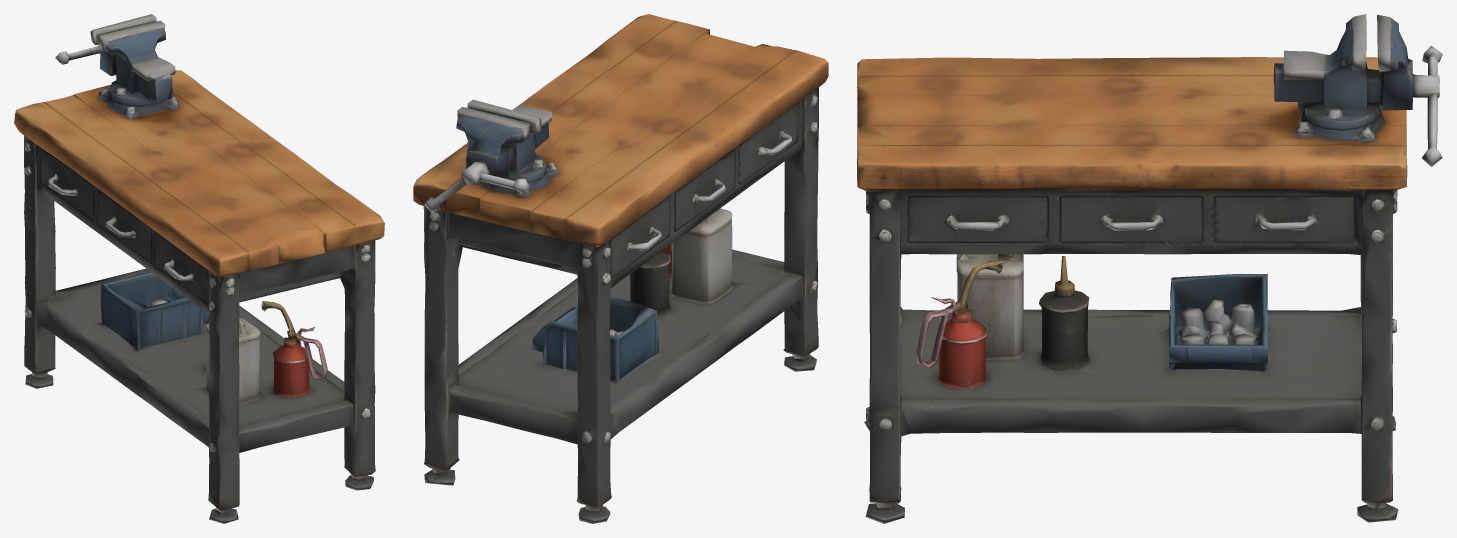
Rendered from workbench.glb.
The picture shows the model from 3 angles, left to right: view 1: azimuth 30°, elevation 25°; view 2: azimuth 150°, elevation 25°; view 3: azimuth 270°, elevation 25°; orthographic projection. The views are drawn at different scales.
Visible parts, largest first — view 1: tripo_node_3eef8bad-72b5-4e90-9ac6-ea0818ccd8ea; view 2: tripo_node_3eef8bad-72b5-4e90-9ac6-ea0818ccd8ea; view 3: tripo_node_3eef8bad-72b5-4e90-9ac6-ea0818ccd8ea.
Part boxes in pixels (x1=…): tripo_node_3eef8bad-72b5-4e90-9ac6-ea0818ccd8ea: x1=14, y1=14, x2=384, y2=523; tripo_node_3eef8bad-72b5-4e90-9ac6-ea0818ccd8ea: x1=413, y1=14, x2=828, y2=523; tripo_node_3eef8bad-72b5-4e90-9ac6-ea0818ccd8ea: x1=857, y1=14, x2=1442, y2=523.
Bounding box in the file's own units: 0.4792 × 0.88 × 1.04.
Materials: 1 (1 with a texture image).
